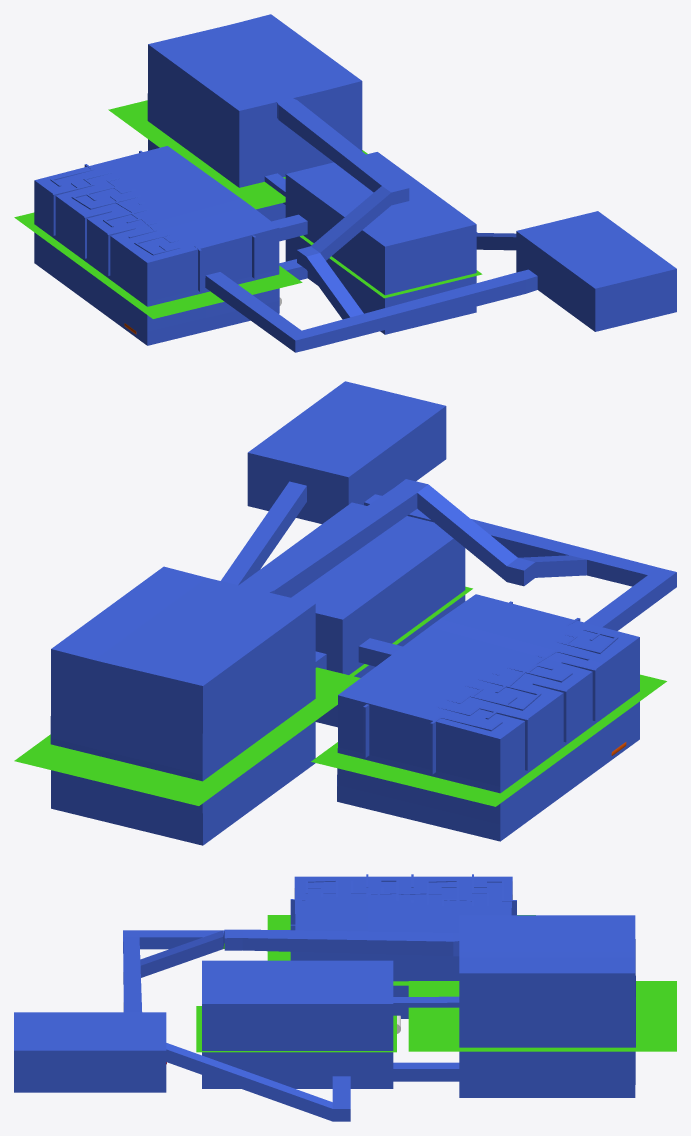
Rendered from map_game.glb.
3 renders of one model, top to bottom at view 1: azimuth 30°, elevation 25°; view 2: azimuth 150°, elevation 25°; view 3: azimuth 270°, elevation 25°, orthographic. The views are drawn at different scales.
Parts seen in each view (by area): view 1: Map, Plane, Plane.003, maze, Plane.001; view 2: Map, Plane.003, Plane, maze; view 3: Map, Plane.003, maze, Plane.001, Plane.
Part boxes in pixels (x1,y1,x2,y2): Map: (34,14,676,352); Plane: (14,212,302,318); Plane.003: (108,100,367,209); maze: (50,150,256,291); Plane.001: (300,235,482,298); Map: (50,381,676,845); Plane.003: (14,667,360,805); Plane: (311,674,666,806); maze: (363,601,618,774); Map: (14,876,635,1121); Plane.003: (408,981,676,1051); maze: (290,874,516,977); Plane.001: (196,1006,396,1052); Plane: (267,915,535,985).
Size of the model in its own units: 191 by 63.65 by 289.
